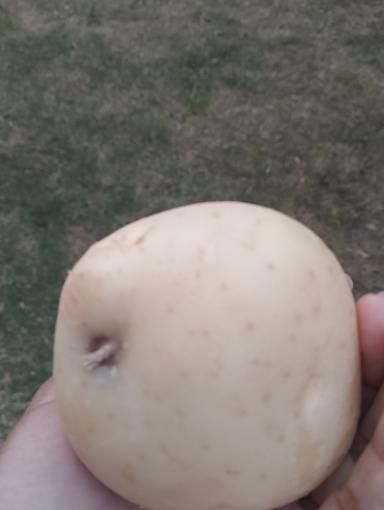potato: (51, 198, 360, 502)
